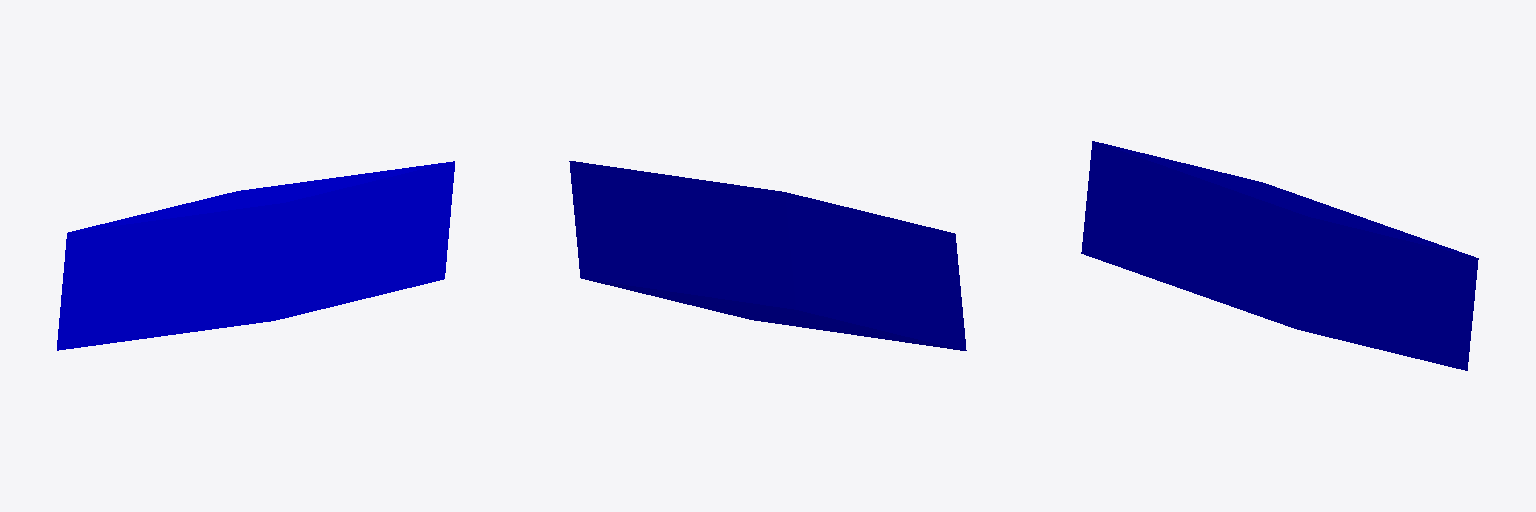
File: planes_1-dynamic - BLK2GO-3630355-Scan 080 29.obj
3 views of the same model, side by side, from view 1: azimuth 30°, elevation 25°; view 2: azimuth 150°, elevation 25°; view 3: azimuth 330°, elevation 25° (orthographic).
Parts seen in each view (by area): view 1: 1-dynamic_-_BLK2GO-[number redacted]-Scan_080_29_0; view 2: 1-dynamic_-_BLK2GO-[number redacted]-Scan_080_29_0; view 3: 1-dynamic_-_BLK2GO-[number redacted]-Scan_080_29_0.
Boxes of the visible parts, x1,y1,x2,y2 form: 1-dynamic_-_BLK2GO-[number redacted]-Scan_080_29_0: [57, 161, 454, 350]; 1-dynamic_-_BLK2GO-[number redacted]-Scan_080_29_0: [569, 161, 966, 350]; 1-dynamic_-_BLK2GO-[number redacted]-Scan_080_29_0: [1081, 141, 1478, 370].
Size of the model in its own units: 2.36 by 0.779 by 0.0137.